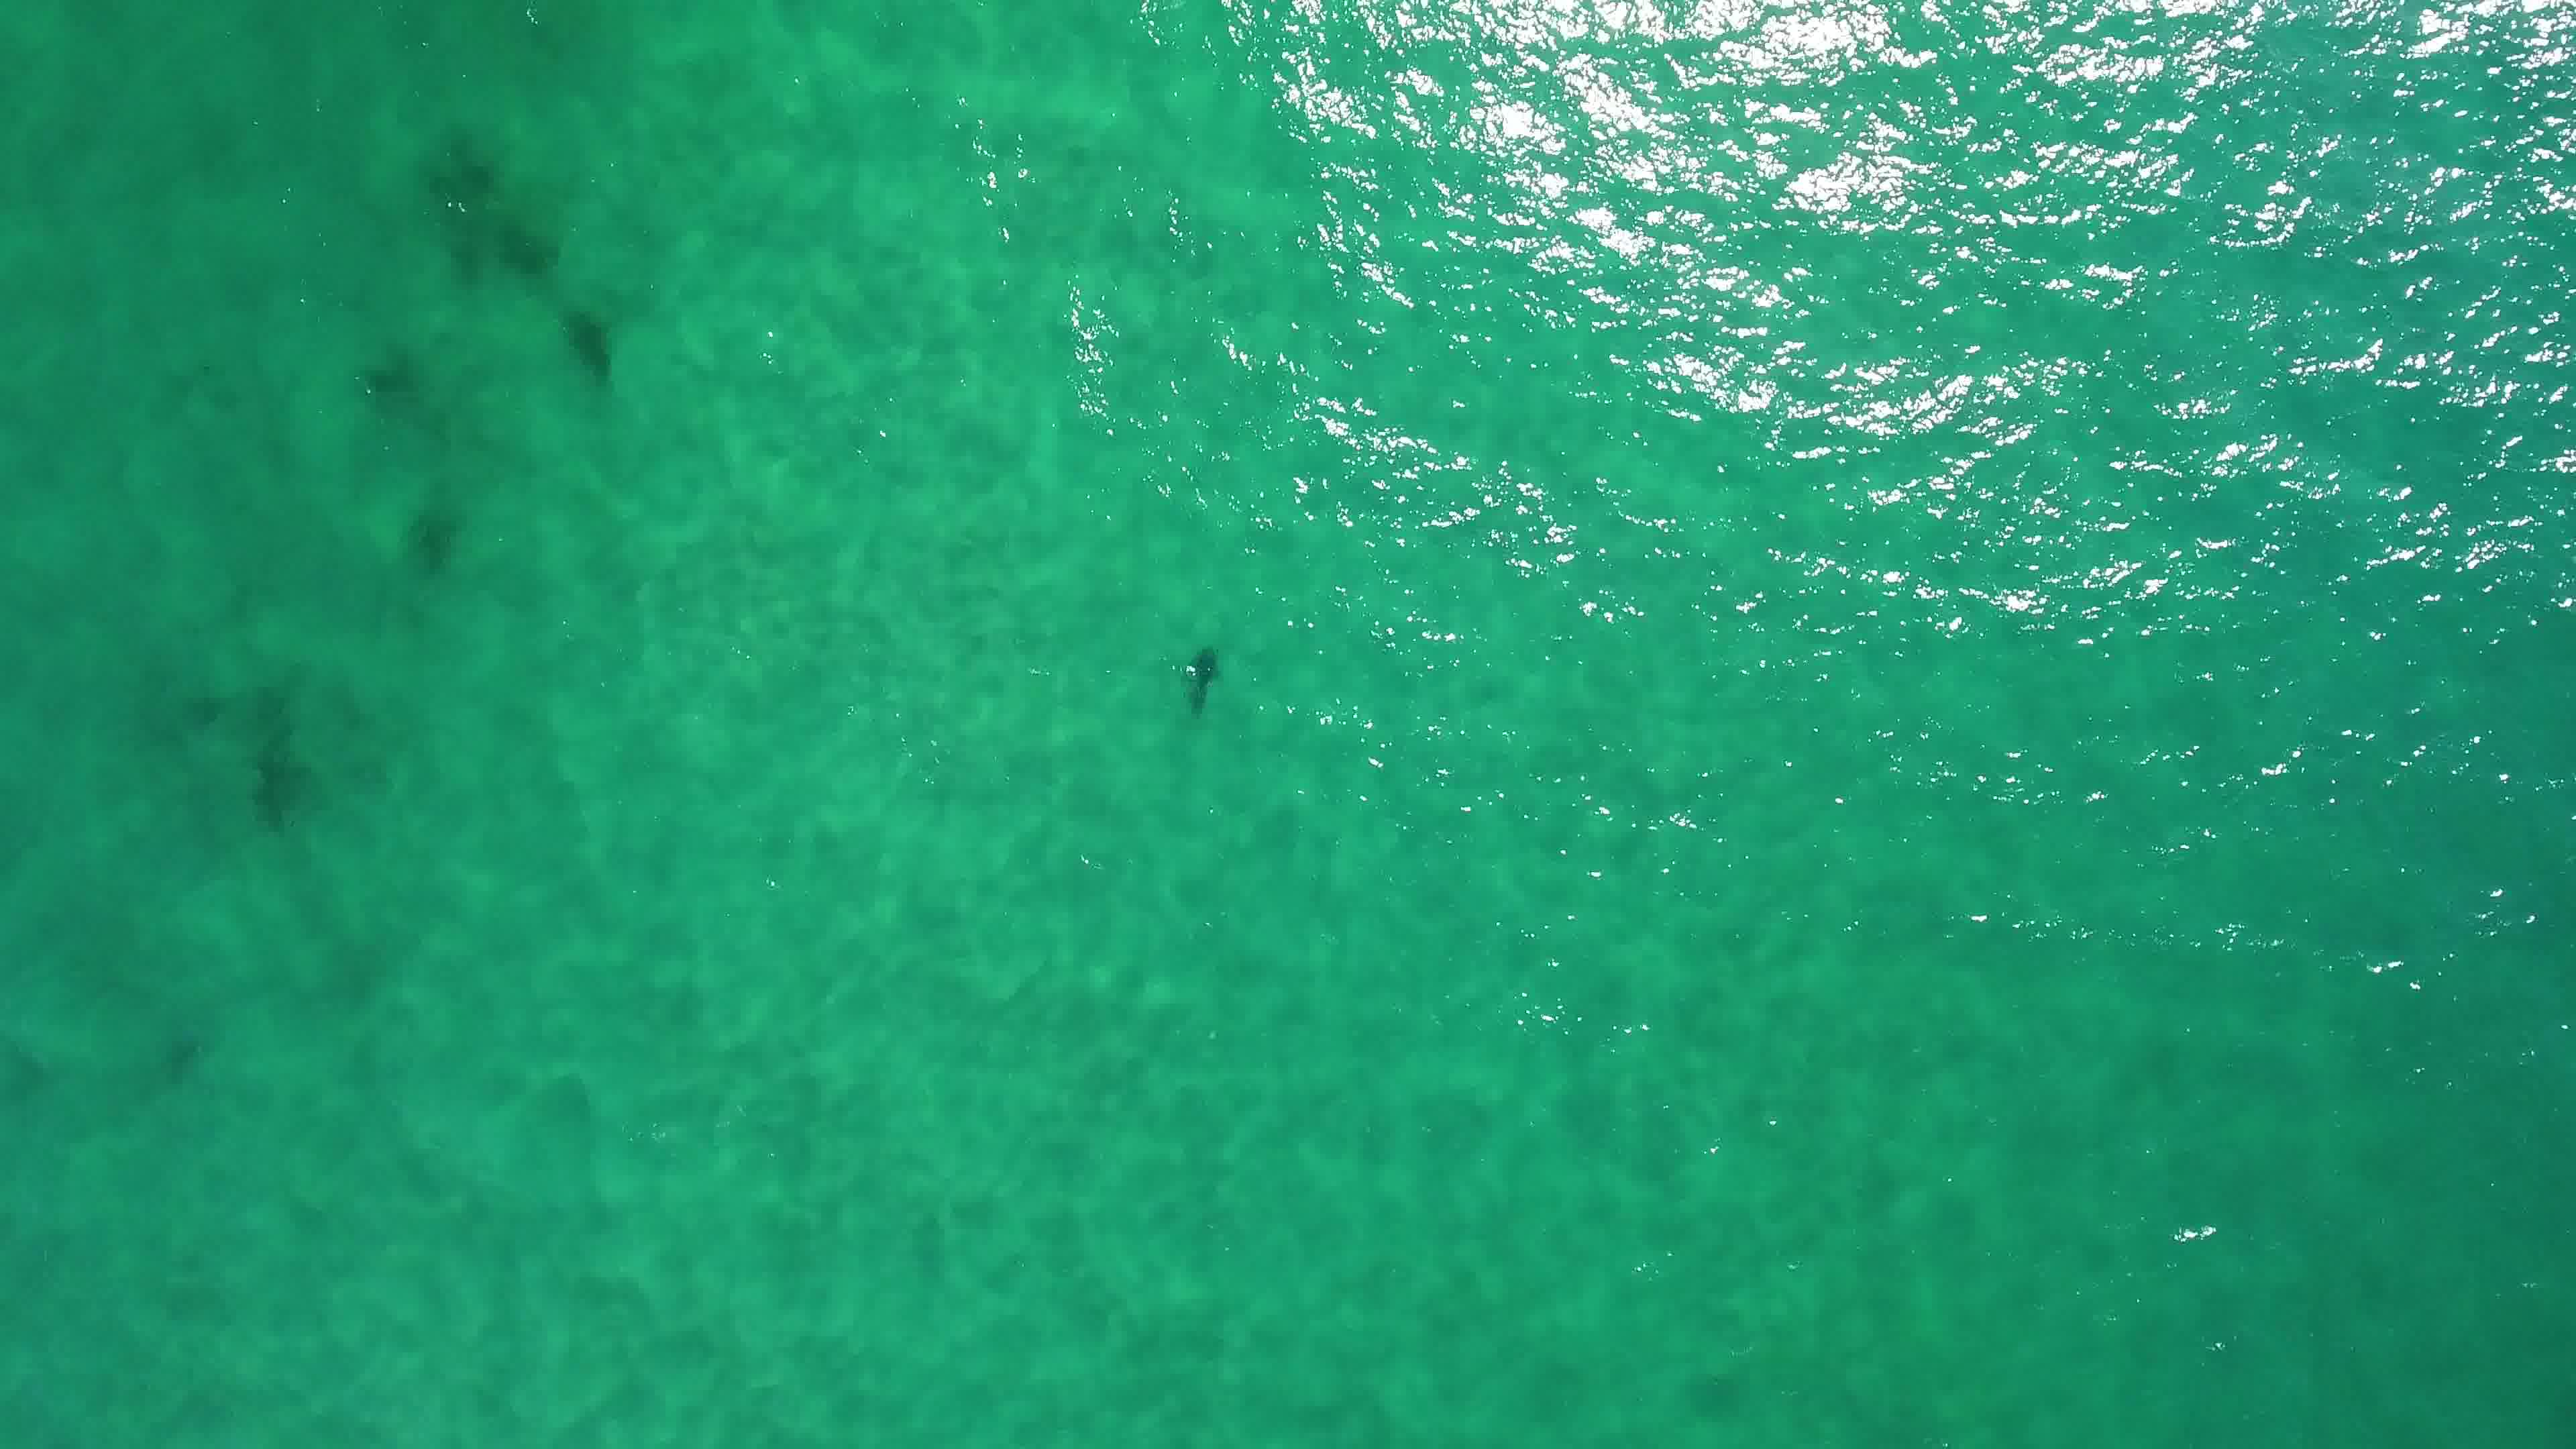shark: (1175, 639, 1228, 718)
